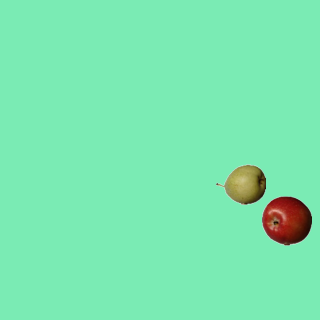Apple Braeburn: (261, 195, 311, 245)
Pear: (215, 159, 265, 209)
